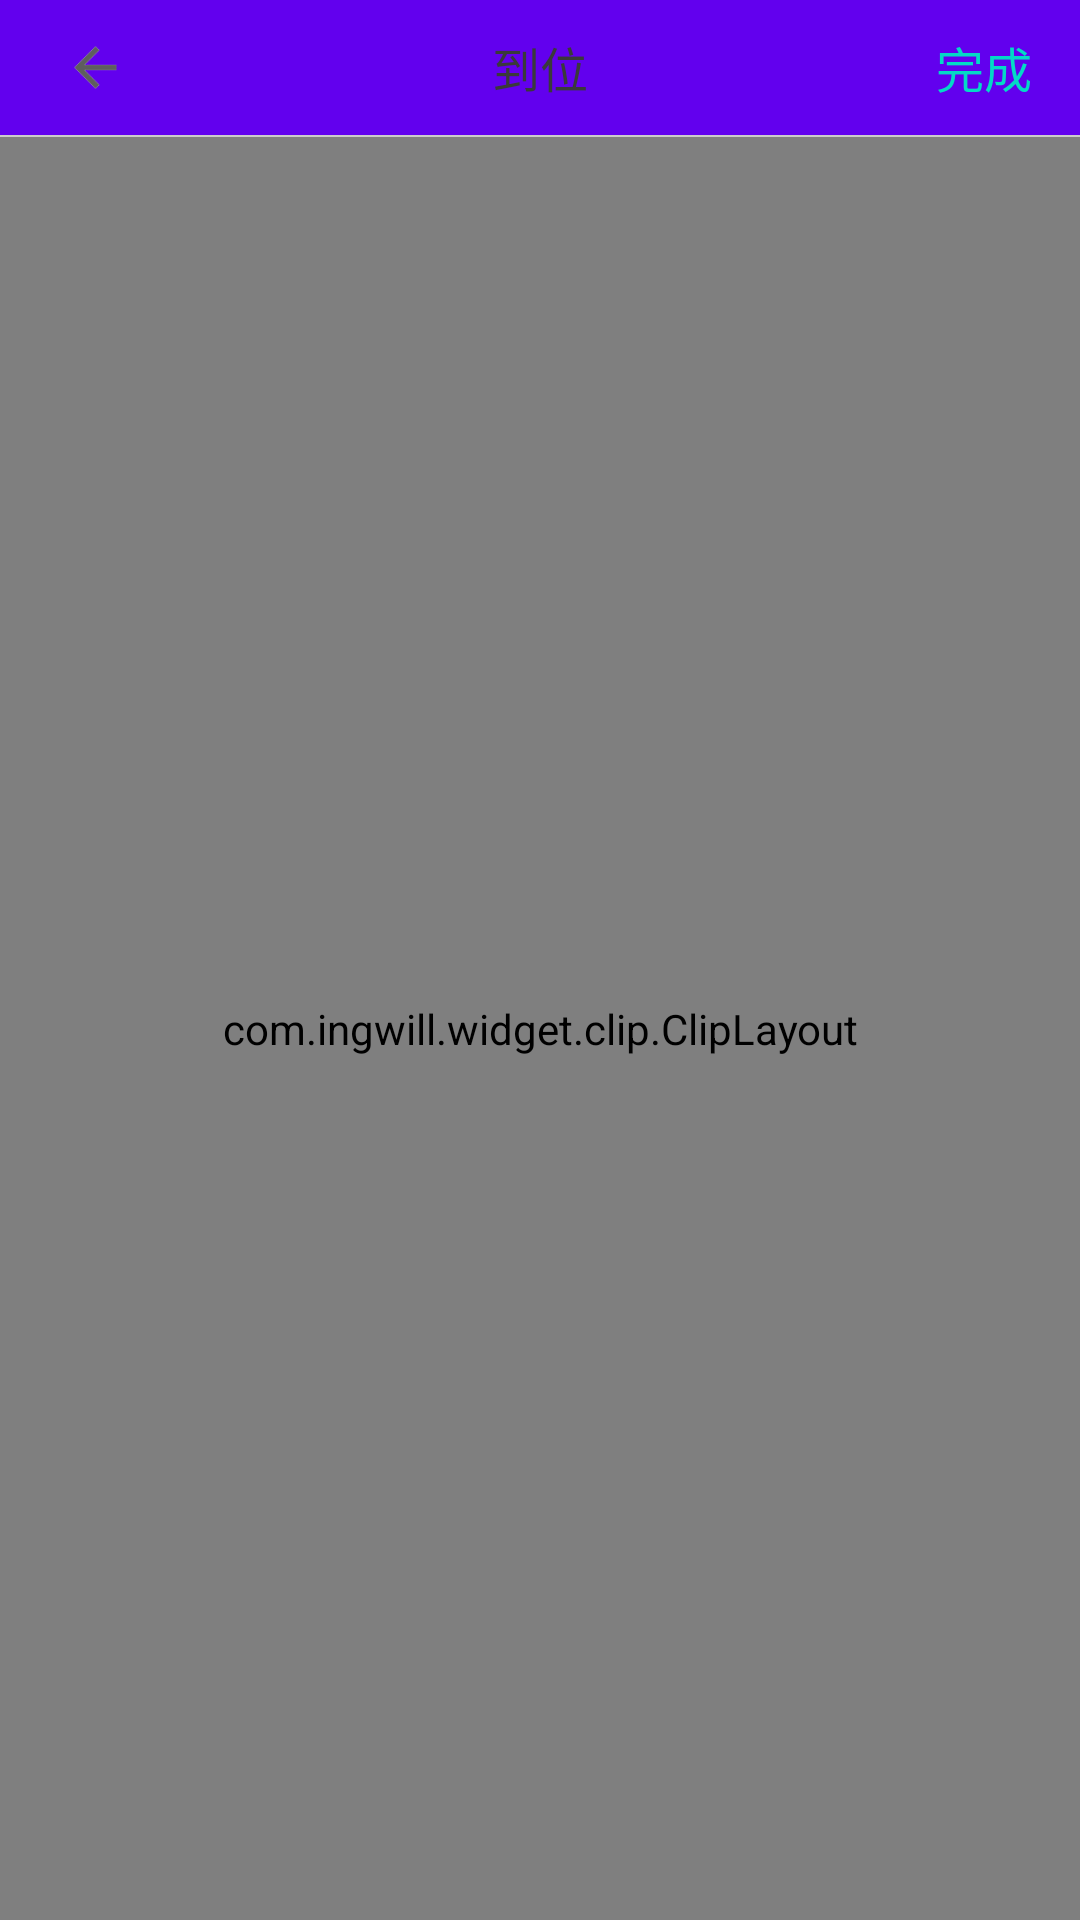

Locate icon controls on the screen. Image size 1080px x 1920px, boxes as box=[x1, y1, x2, y2].
back: box=[74, 46, 117, 89]
